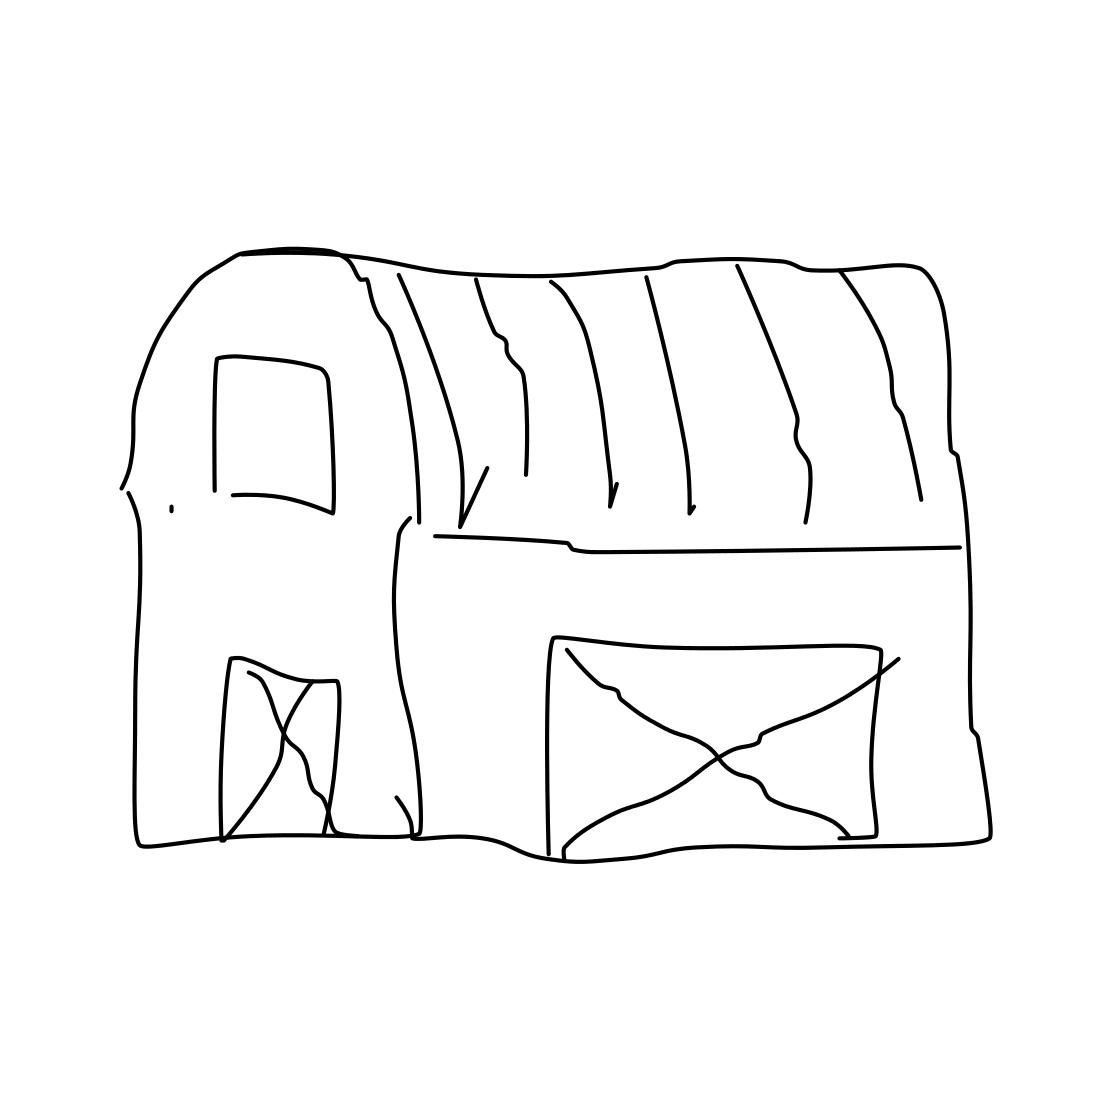House: (36, 204, 1030, 874)
